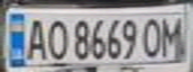6: (87, 15, 109, 60), (106, 16, 124, 60)
8: (69, 16, 93, 61)
9: (121, 16, 142, 58)
A: (21, 14, 48, 61)
M: (157, 14, 190, 57)
O: (42, 15, 69, 61), (139, 15, 166, 58)
